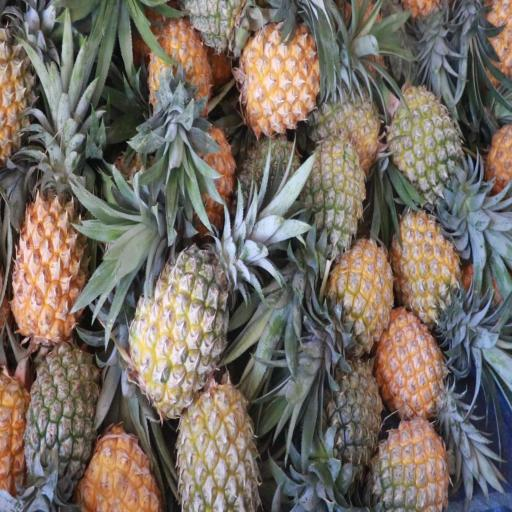------------------------------: (134, 250, 230, 410), (176, 381, 254, 512)
Pineapple - v8 v1: (13, 189, 84, 342), (0, 19, 51, 167), (243, 34, 319, 133), (390, 208, 456, 321), (378, 314, 443, 418), (329, 243, 390, 350), (146, 25, 210, 125), (87, 428, 163, 512)
